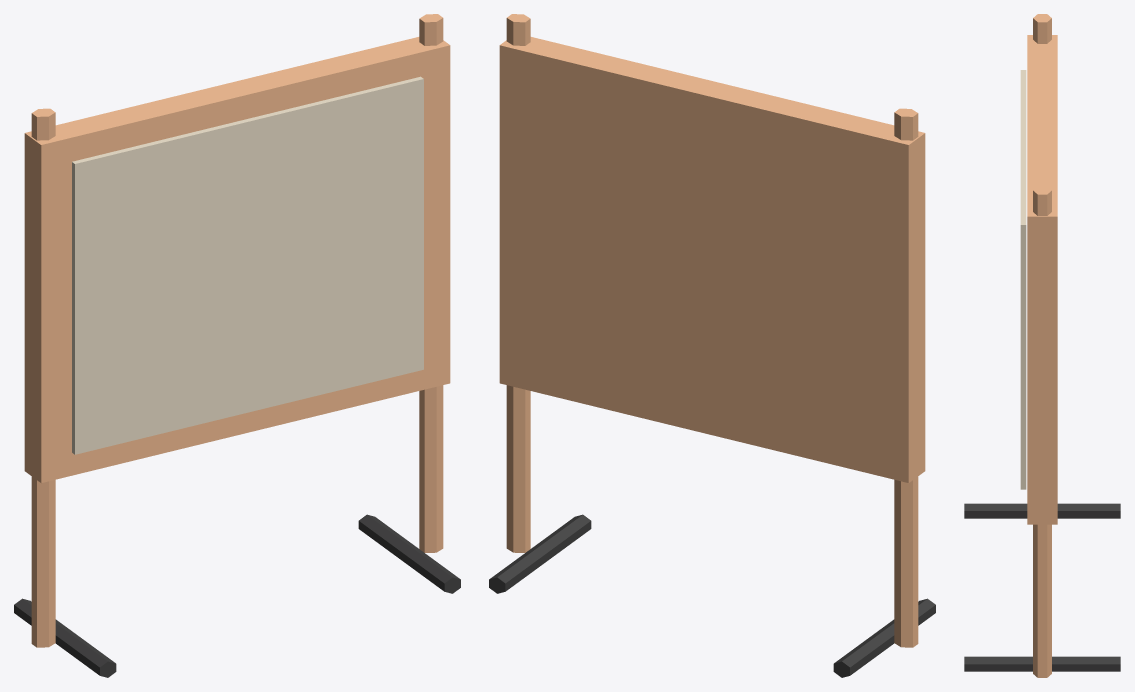
3 renders of one model, left to right at view 1: azimuth 30°, elevation 25°; view 2: azimuth 150°, elevation 25°; view 3: azimuth 270°, elevation 25°, orthographic. The views are drawn at different scales.
Visible parts, largest first — view 1: Art surface, Frame, Support, Support.001, Foot.001, Foot; view 2: Frame, Support, Support.001, Foot.001, Foot; view 3: Frame, Support.001, Art surface, Foot.001, Foot, Support.
Boxes of the visible parts, x1,y1,x2,y2 form: Art surface: (72, 76, 423, 454); Frame: (24, 37, 450, 482); Support: (31, 108, 55, 647); Support.001: (419, 14, 443, 552); Foot.001: (358, 514, 460, 593); Foot: (14, 598, 116, 677); Frame: (499, 37, 925, 482); Support: (894, 108, 918, 647); Support.001: (506, 14, 530, 552); Foot.001: (489, 514, 591, 593); Foot: (833, 598, 935, 677); Frame: (1027, 35, 1057, 524); Support.001: (1033, 186, 1051, 677); Art surface: (1020, 70, 1026, 489); Foot.001: (964, 656, 1120, 671); Foot: (964, 503, 1120, 518); Support: (1033, 14, 1051, 43).
Size of the model in its own units: 114 by 144 by 41.4.
